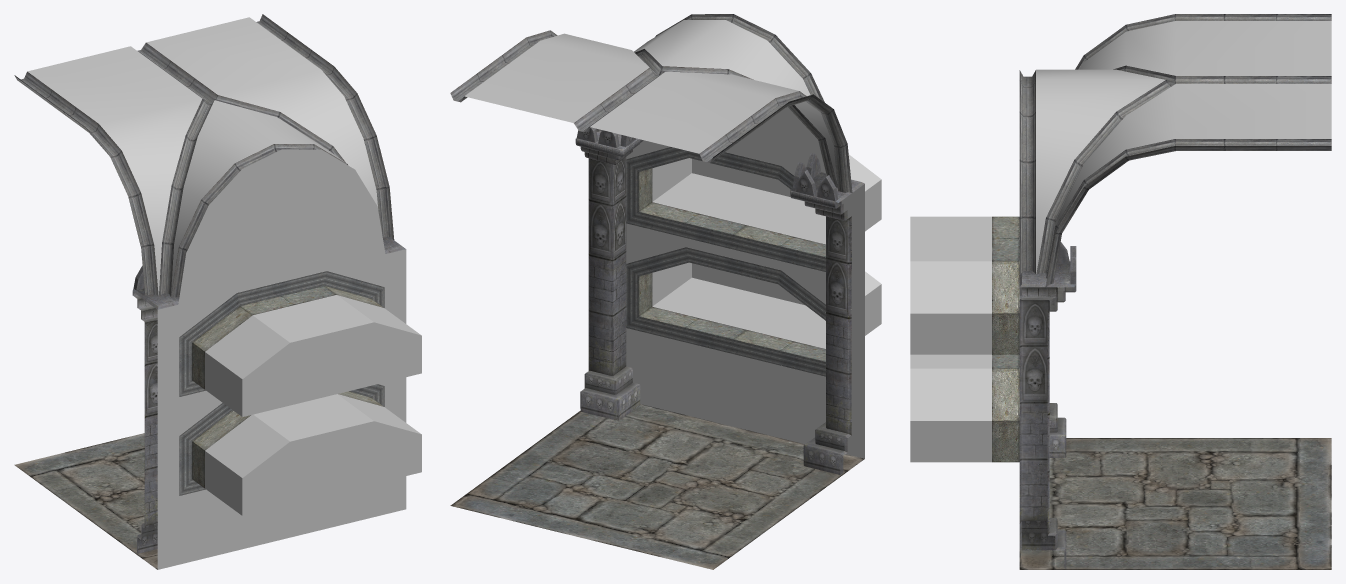
Rendered from Wall_Catacombs.FBX.
3 views of the same model, side by side, from view 1: azimuth 30°, elevation 25°; view 2: azimuth 150°, elevation 25°; view 3: azimuth 270°, elevation 25° (orthographic). The views are drawn at different scales.
Parts seen in each view (by area): view 1: Wall Catacomb; view 2: Wall Catacomb; view 3: Wall Catacomb.
Part boxes in pixels (bbox=[...]): Wall Catacomb: bbox=[14, 14, 421, 569]; Wall Catacomb: bbox=[450, 14, 881, 569]; Wall Catacomb: bbox=[910, 14, 1331, 569].
Size of the model in its own units: 500 by 750 by 675.
